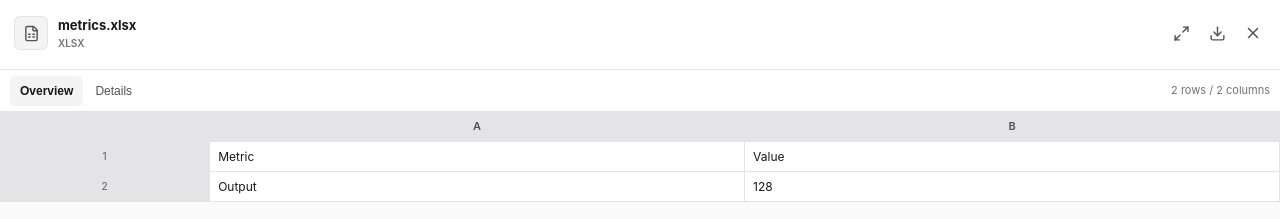
Scenario: ChatFilePreview › renders XLSX worksheets and switches between them
Expected: the text "Output" is shown, [210,172,745,202]
Click the tab "Details": (114, 90) [85,76,142,106]
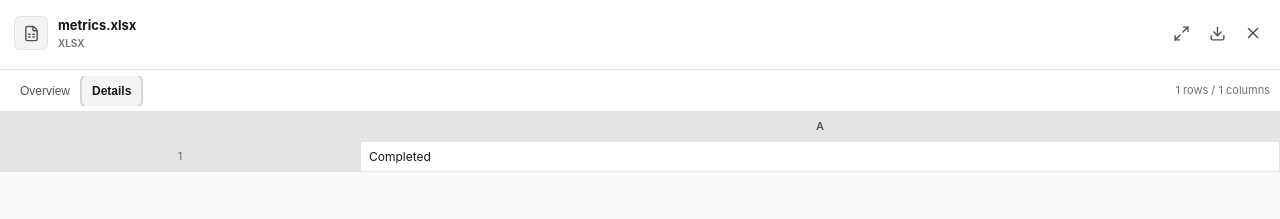
Now the text "Completed" is shown, box [361,142,1279,172]
